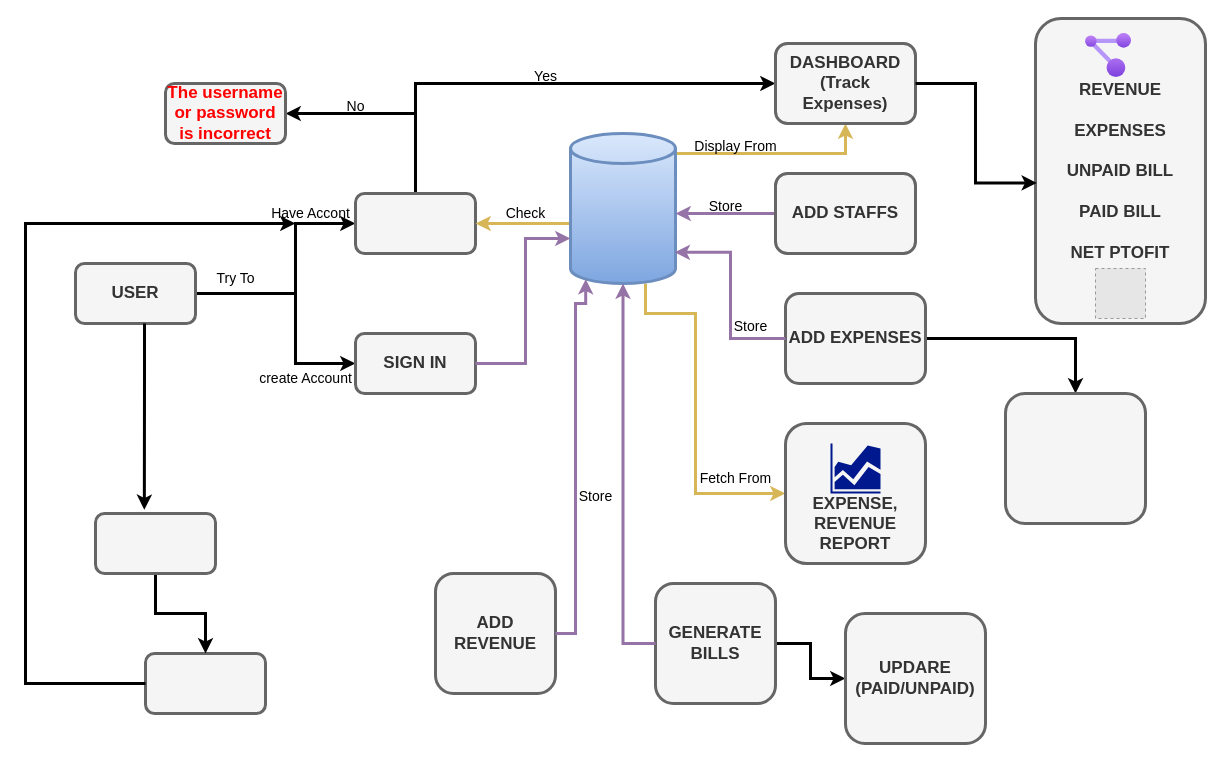
Some shapes in this 1224 by 762 pixel diagram are drawn without their labels. Grey dashed boxes stand in for pictures. The centre of each missing label's shape, as x and y in pixels:
ACCOUNT: (155,543)
ADD & DELETE EXPENSES: (1075,458)
DATABASE: (622,208)
LOG OUT: (205,683)
LOGIN: (415,223)
